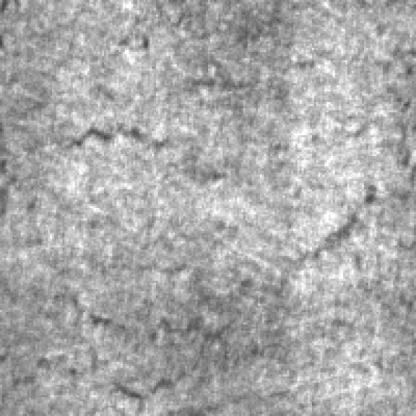crazing: (62, 185, 376, 410)
